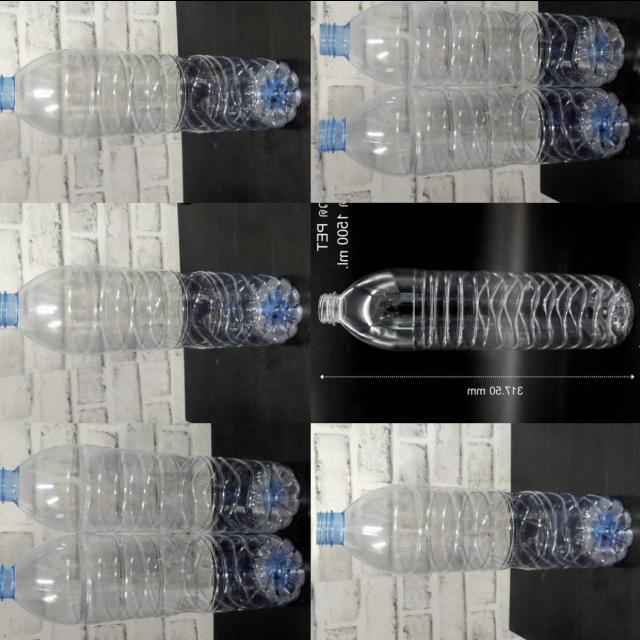plastik: (316, 484, 632, 573), (0, 533, 305, 623), (0, 47, 301, 138), (320, 87, 630, 175), (0, 264, 302, 353), (0, 444, 299, 532), (320, 0, 625, 86), (319, 268, 634, 349)
